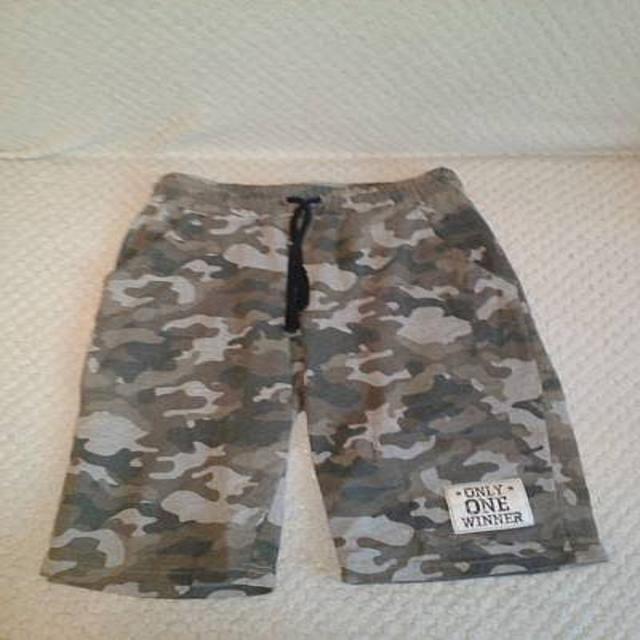SHORT: (32, 162, 620, 609)
